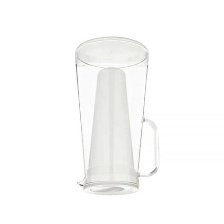glass: (65, 31, 175, 203)
